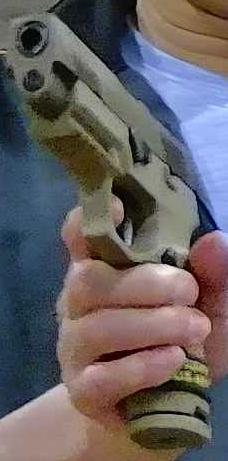gun: (1, 1, 228, 461)
